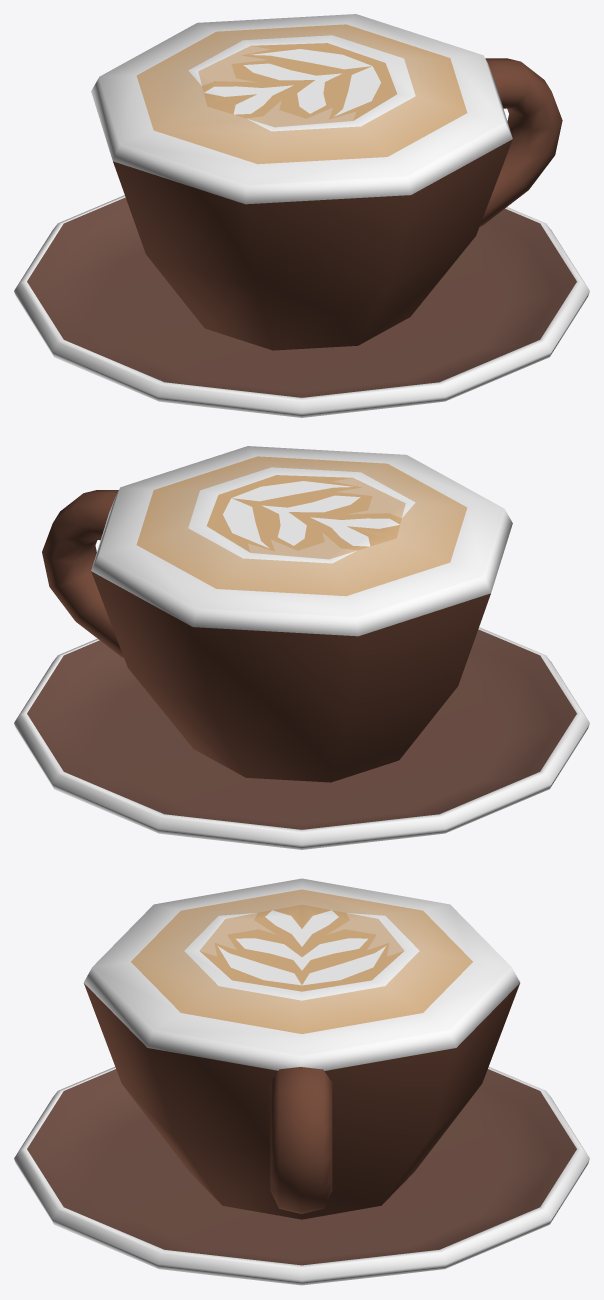
The model's file is prop_091.fbx.
The picture shows the model from 3 angles, top to bottom: view 1: azimuth 30°, elevation 25°; view 2: azimuth 150°, elevation 25°; view 3: azimuth 270°, elevation 25°; orthographic projection.
Visible parts, largest first — view 1: prop_091; view 2: prop_091; view 3: prop_091.
Boxes of the visible parts, box(x1,y1,x2,y2) form: prop_091: box(14, 14, 589, 417); prop_091: box(14, 446, 589, 849); prop_091: box(14, 878, 589, 1285).
Size of the model in its own units: 24.13 by 23.91 by 11.43.
